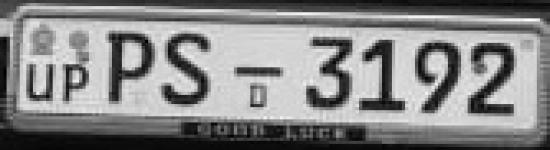-: (231, 63, 287, 84)
1: (359, 33, 410, 118)
2: (464, 38, 520, 122)
3: (300, 32, 357, 115)
9: (412, 35, 464, 119)
P: (103, 28, 158, 107), (59, 58, 89, 103)
S: (159, 28, 213, 113)
U: (22, 59, 58, 104)
